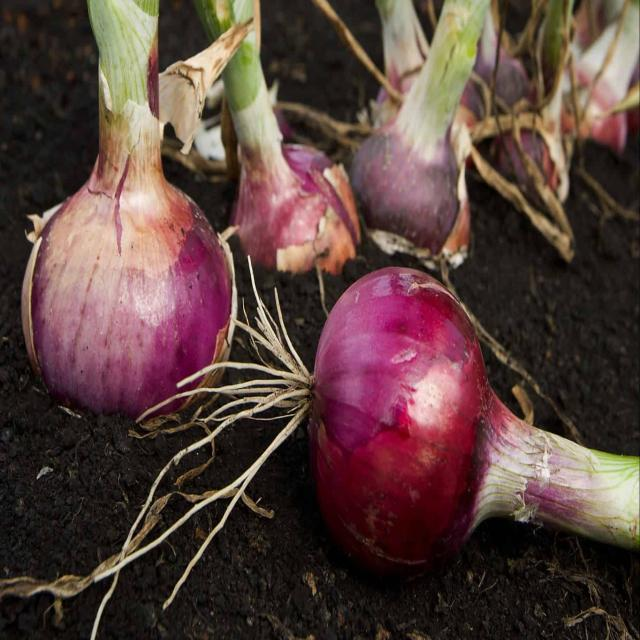onion: (304, 267, 507, 564), (28, 128, 226, 396)
